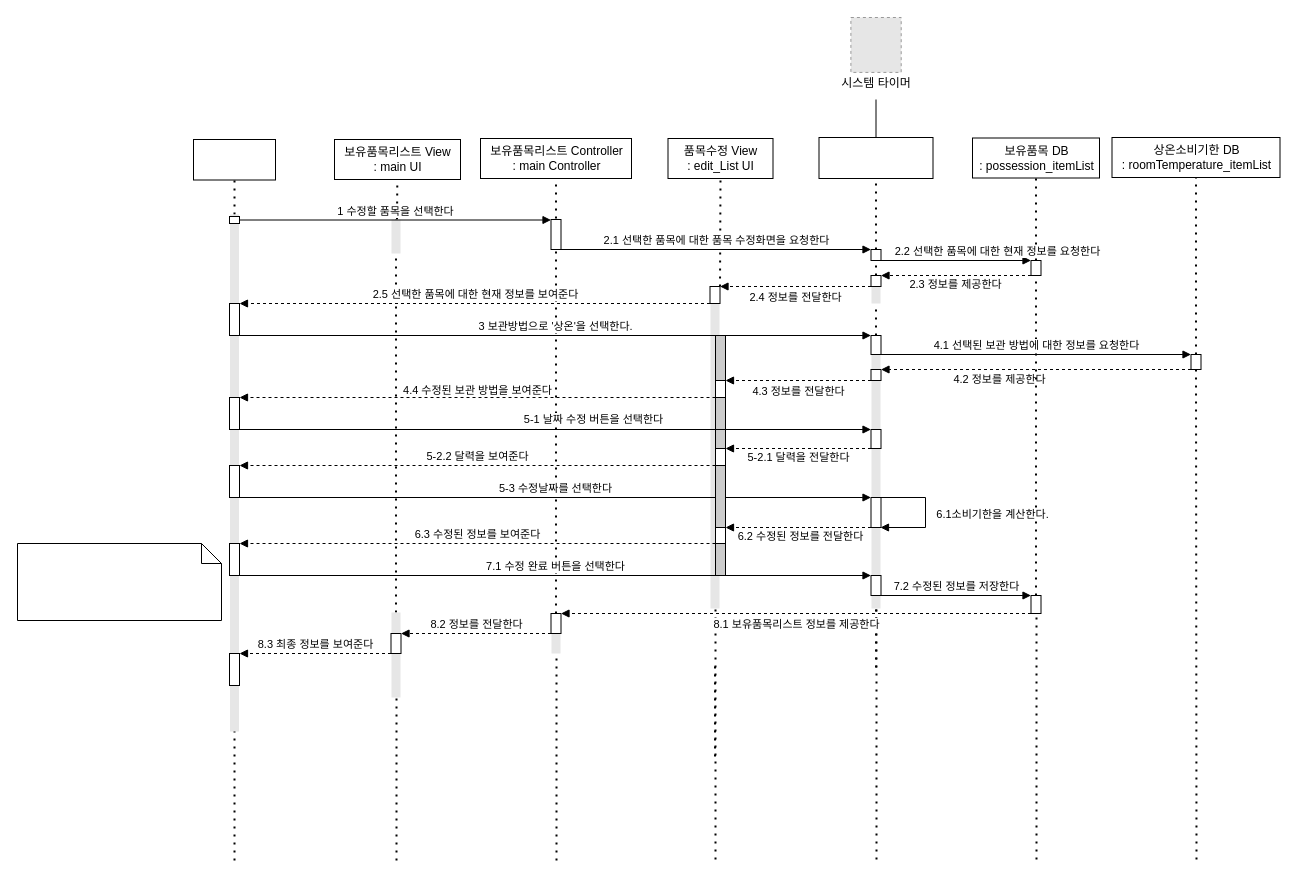
This 1298x880 diagram has some shape labels left out. Grey dashed boxes stand in for pictures. Here are the shapes that lost their labels. From the top down, the box of each, then its label:
(192, 138, 276, 180): USER
(818, 136, 933, 178): 품목수정 Controller : edit_List Controller
(16, 542, 222, 620): 7A. 사용자가 취소버튼을 누를 경우, 시스템이 '수정을 취소하시겠습니까?' 라는 팝업창을 보여준다
